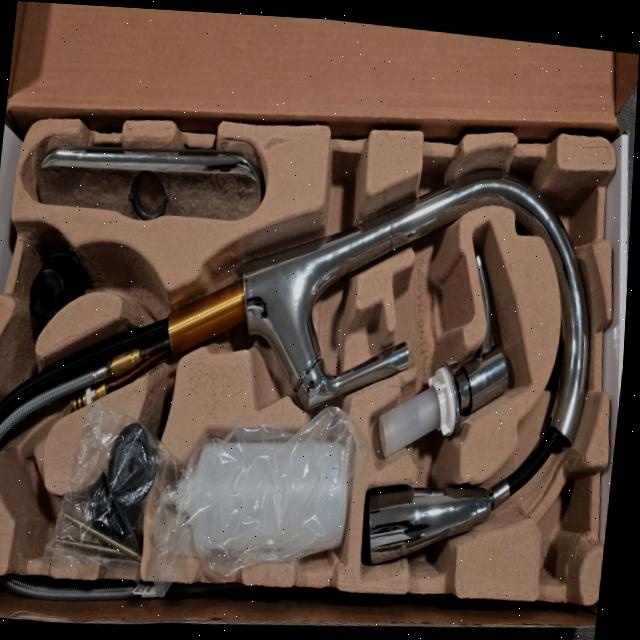1: (0, 169, 589, 565)
2: (375, 251, 510, 457)
3: (161, 440, 346, 557)
4: (37, 150, 263, 225)
5: (29, 246, 86, 325)
6m: (0, 452, 73, 565)
7: (44, 395, 164, 573)
